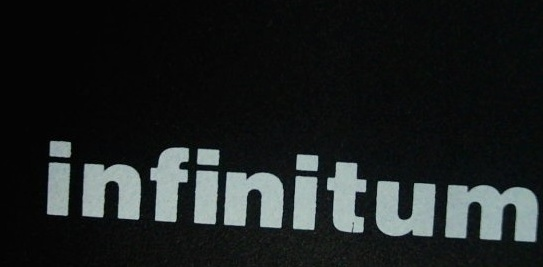BK_infinitum: (42, 137, 539, 246)
